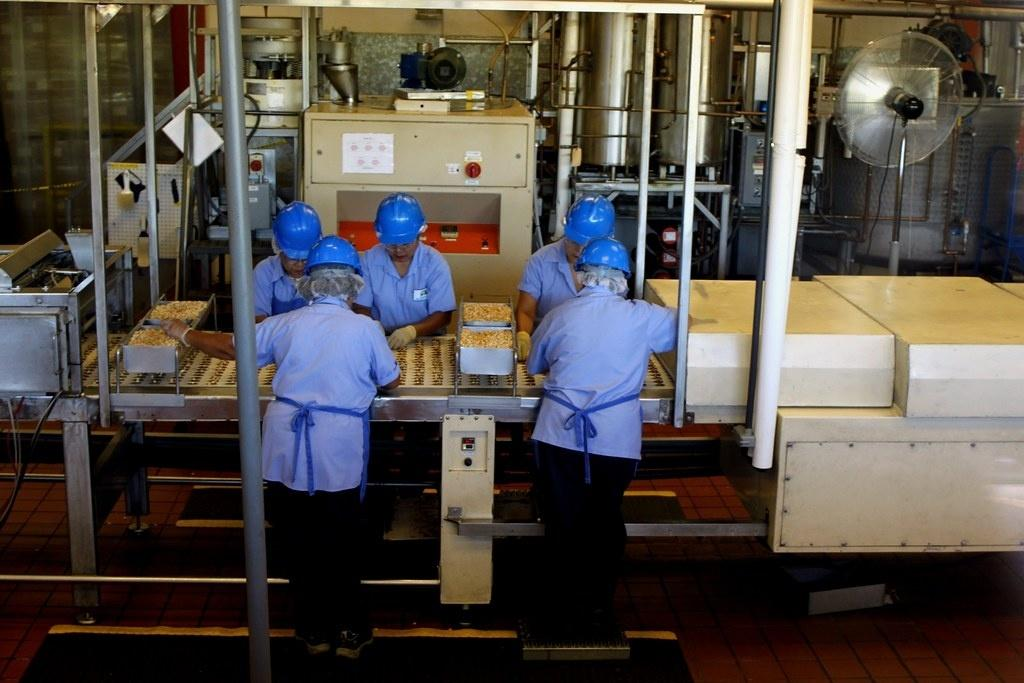capacete: (300, 231, 371, 299), (566, 236, 646, 291), (359, 189, 434, 245), (263, 197, 325, 261), (560, 186, 623, 242)
pessoa: (246, 291, 399, 666), (554, 240, 670, 608), (365, 196, 452, 333)
